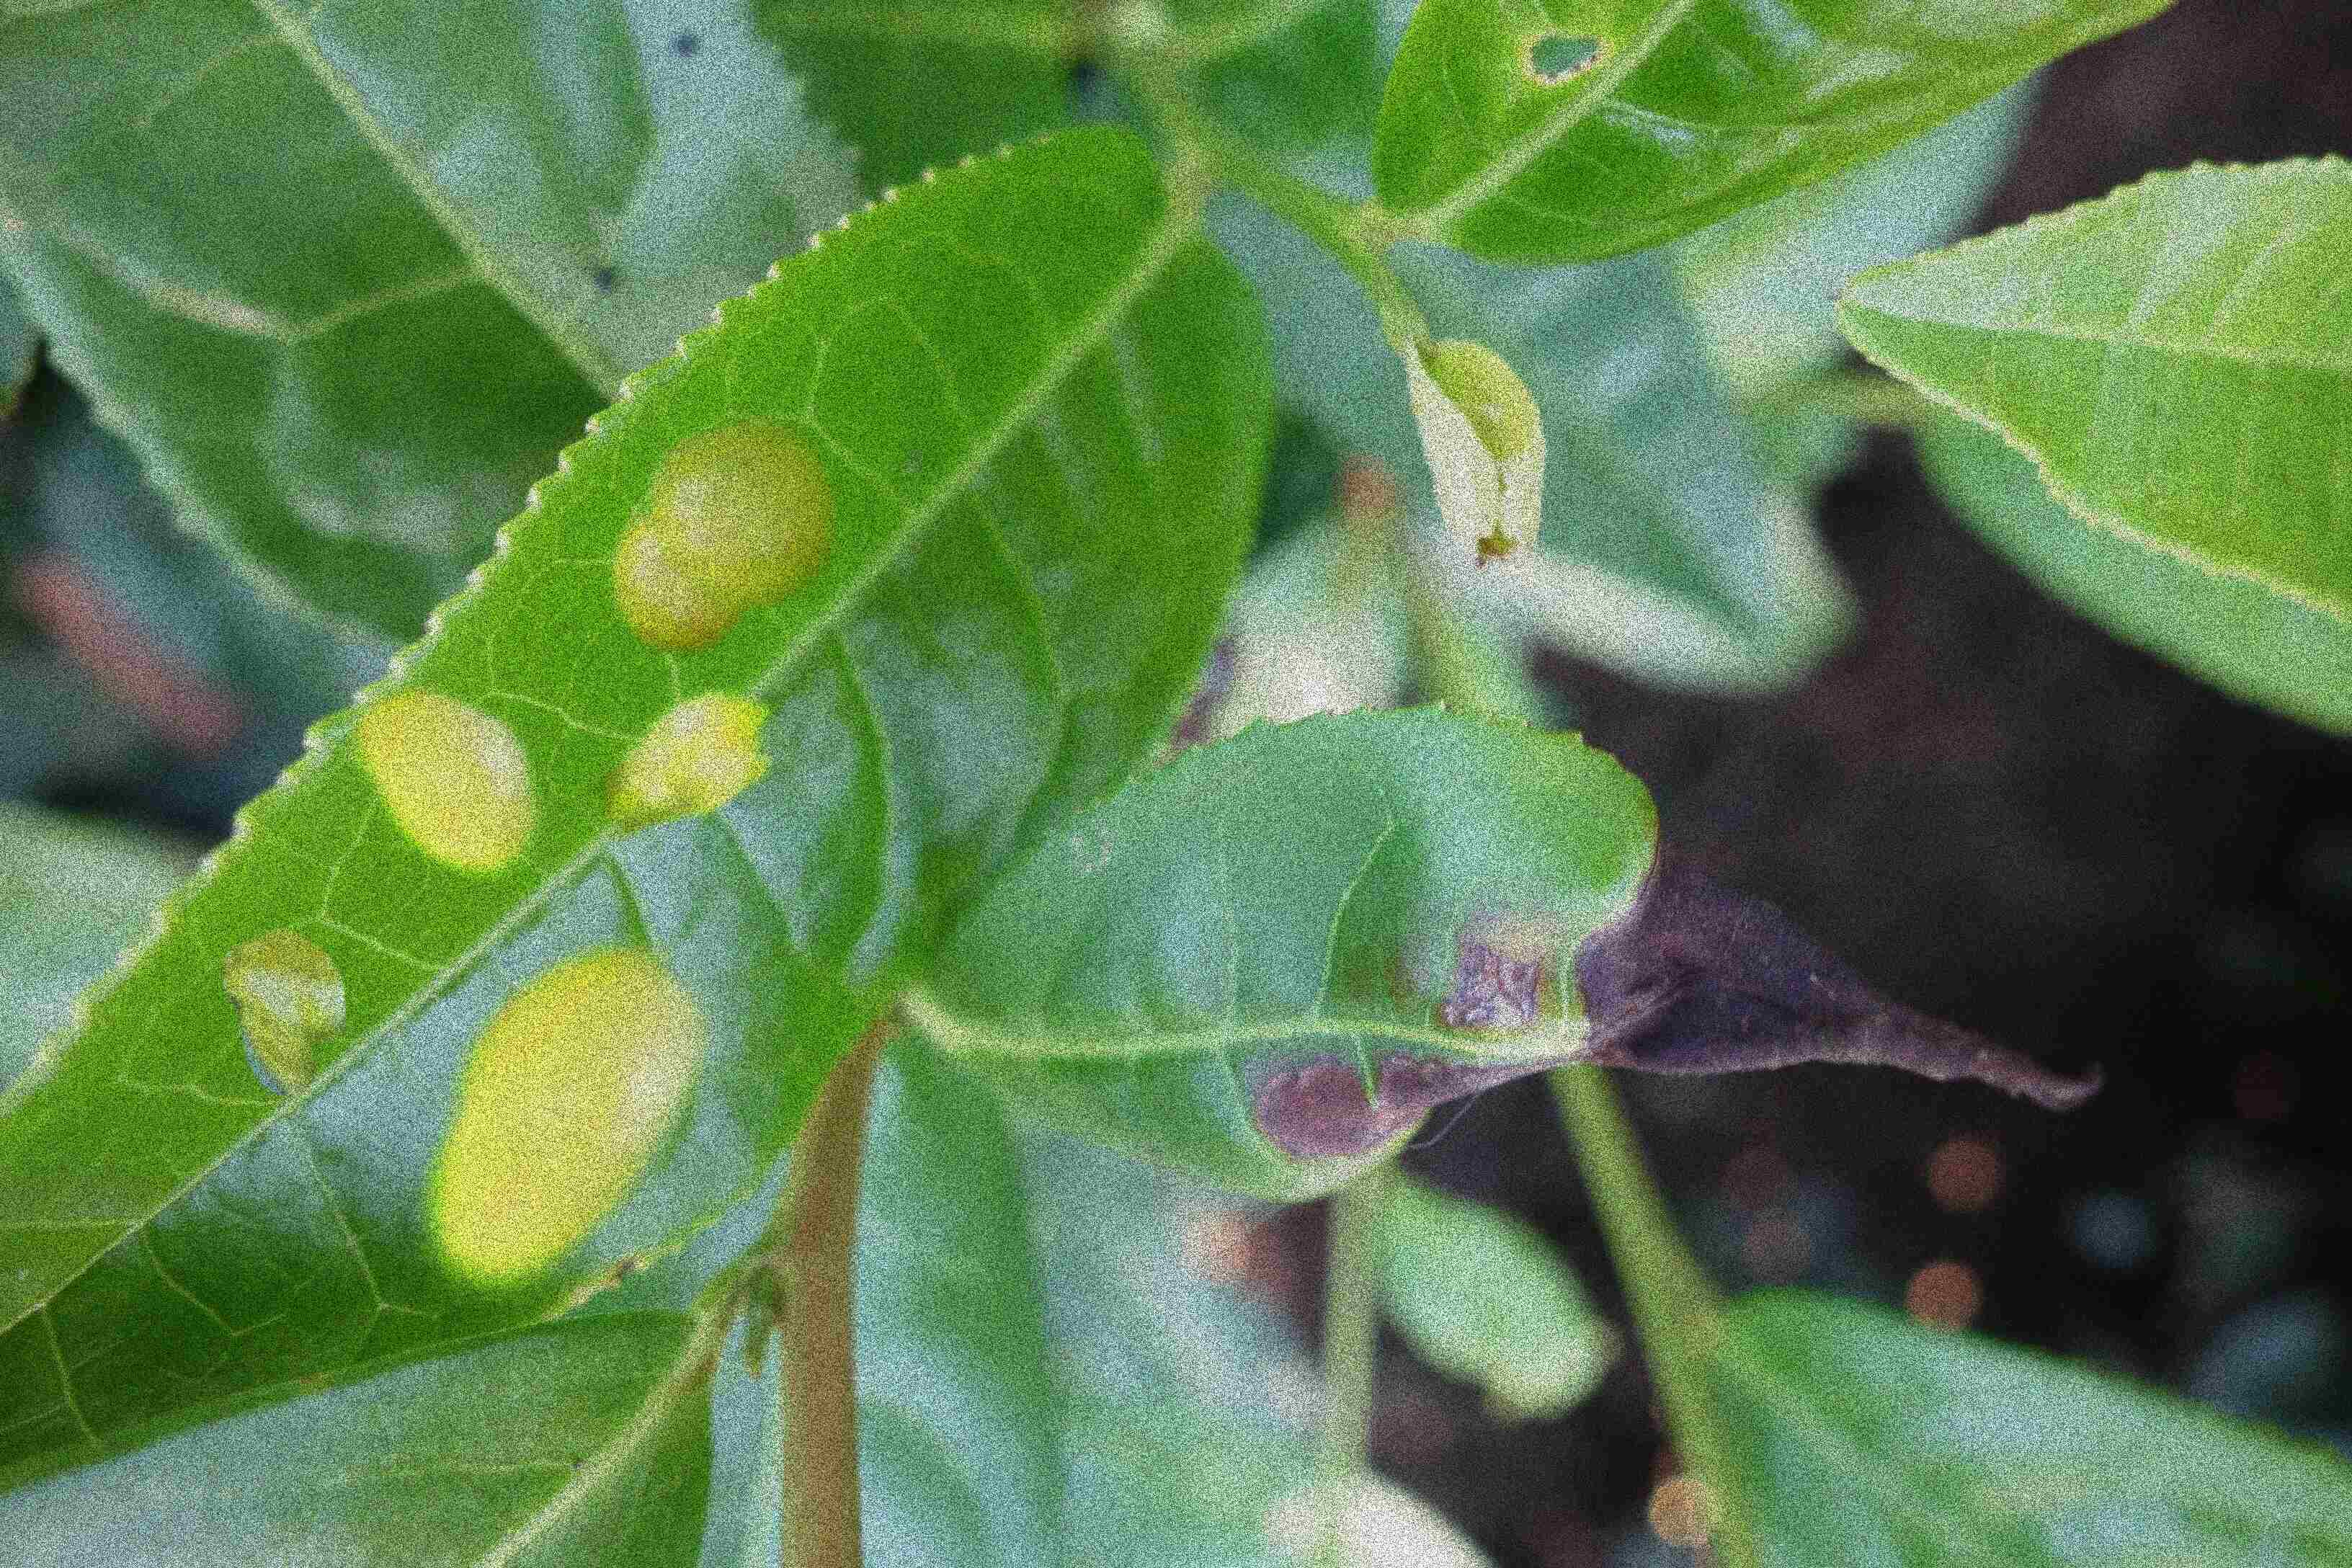chabing_high: (5, 119, 1286, 1452)
chihuo_low: (1372, 3, 2184, 261)
healthy: (1820, 154, 2345, 625)
tanju_high: (910, 700, 2109, 1211)
